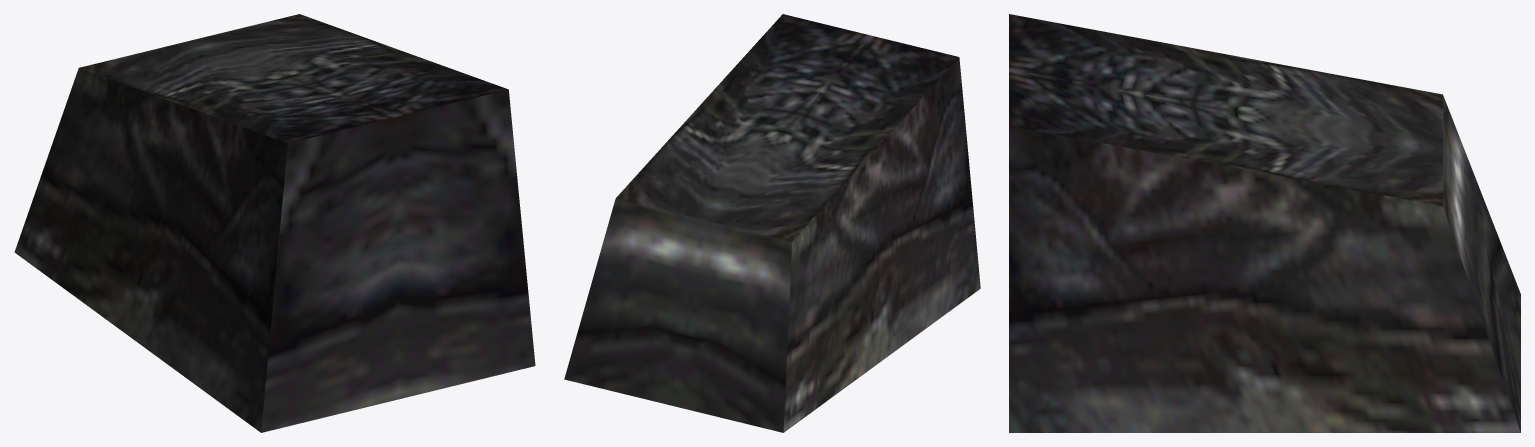
Rendered from arm_bulat_boot.obj.
The picture shows the model from 3 angles, left to right: view 1: azimuth 30°, elevation 25°; view 2: azimuth 150°, elevation 25°; view 3: azimuth 270°, elevation 25°; orthographic projection. The views are drawn at different scales.
Parts seen in each view (by area): view 1: arm_jacket_boot_Cube.004; view 2: arm_jacket_boot_Cube.004; view 3: arm_jacket_boot_Cube.004.
Part boxes in pixels (x1=…): arm_jacket_boot_Cube.004: x1=14, y1=14, x2=535, y2=432; arm_jacket_boot_Cube.004: x1=564, y1=14, x2=980, y2=432; arm_jacket_boot_Cube.004: x1=1009, y1=14, x2=1520, y2=432.
Size of the model in its own units: 1.28 by 1.27 by 2.
